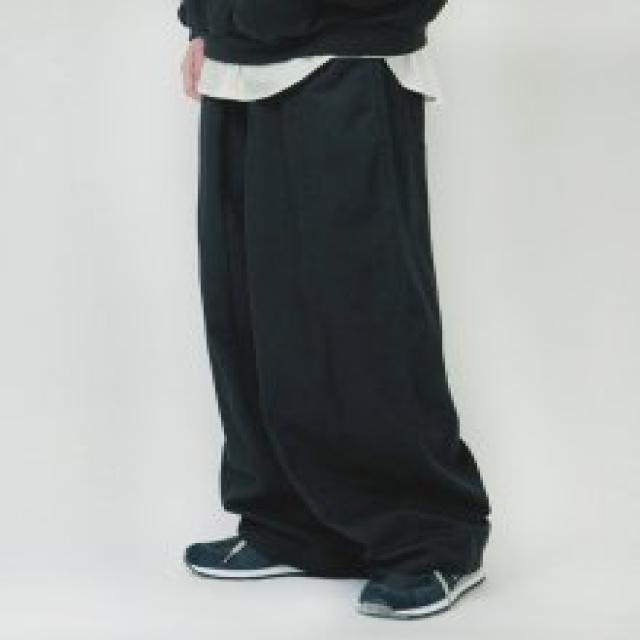long-pants: (191, 56, 493, 586)
